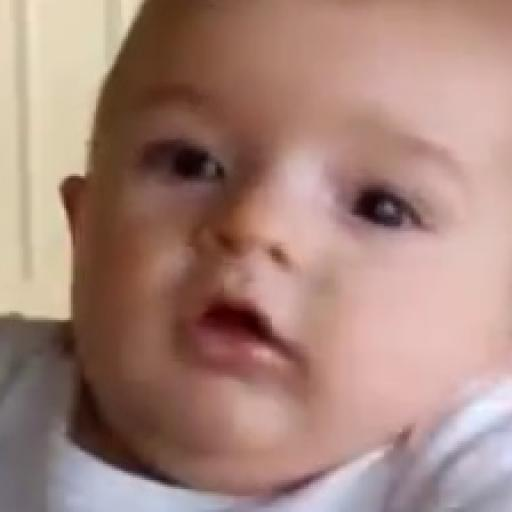Autism: (56, 9, 512, 512)
